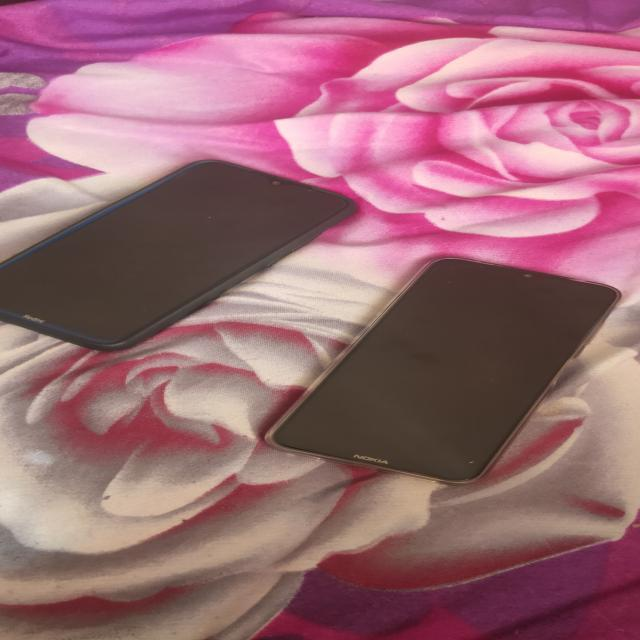Phone: (256, 253, 629, 488), (2, 156, 363, 355)
